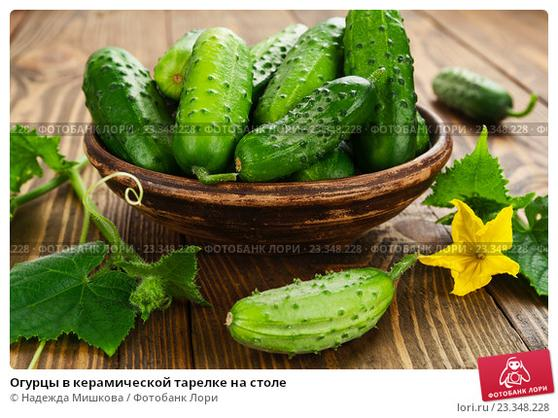cucumber: (220, 269, 400, 350), (344, 8, 423, 164), (180, 30, 256, 176)
